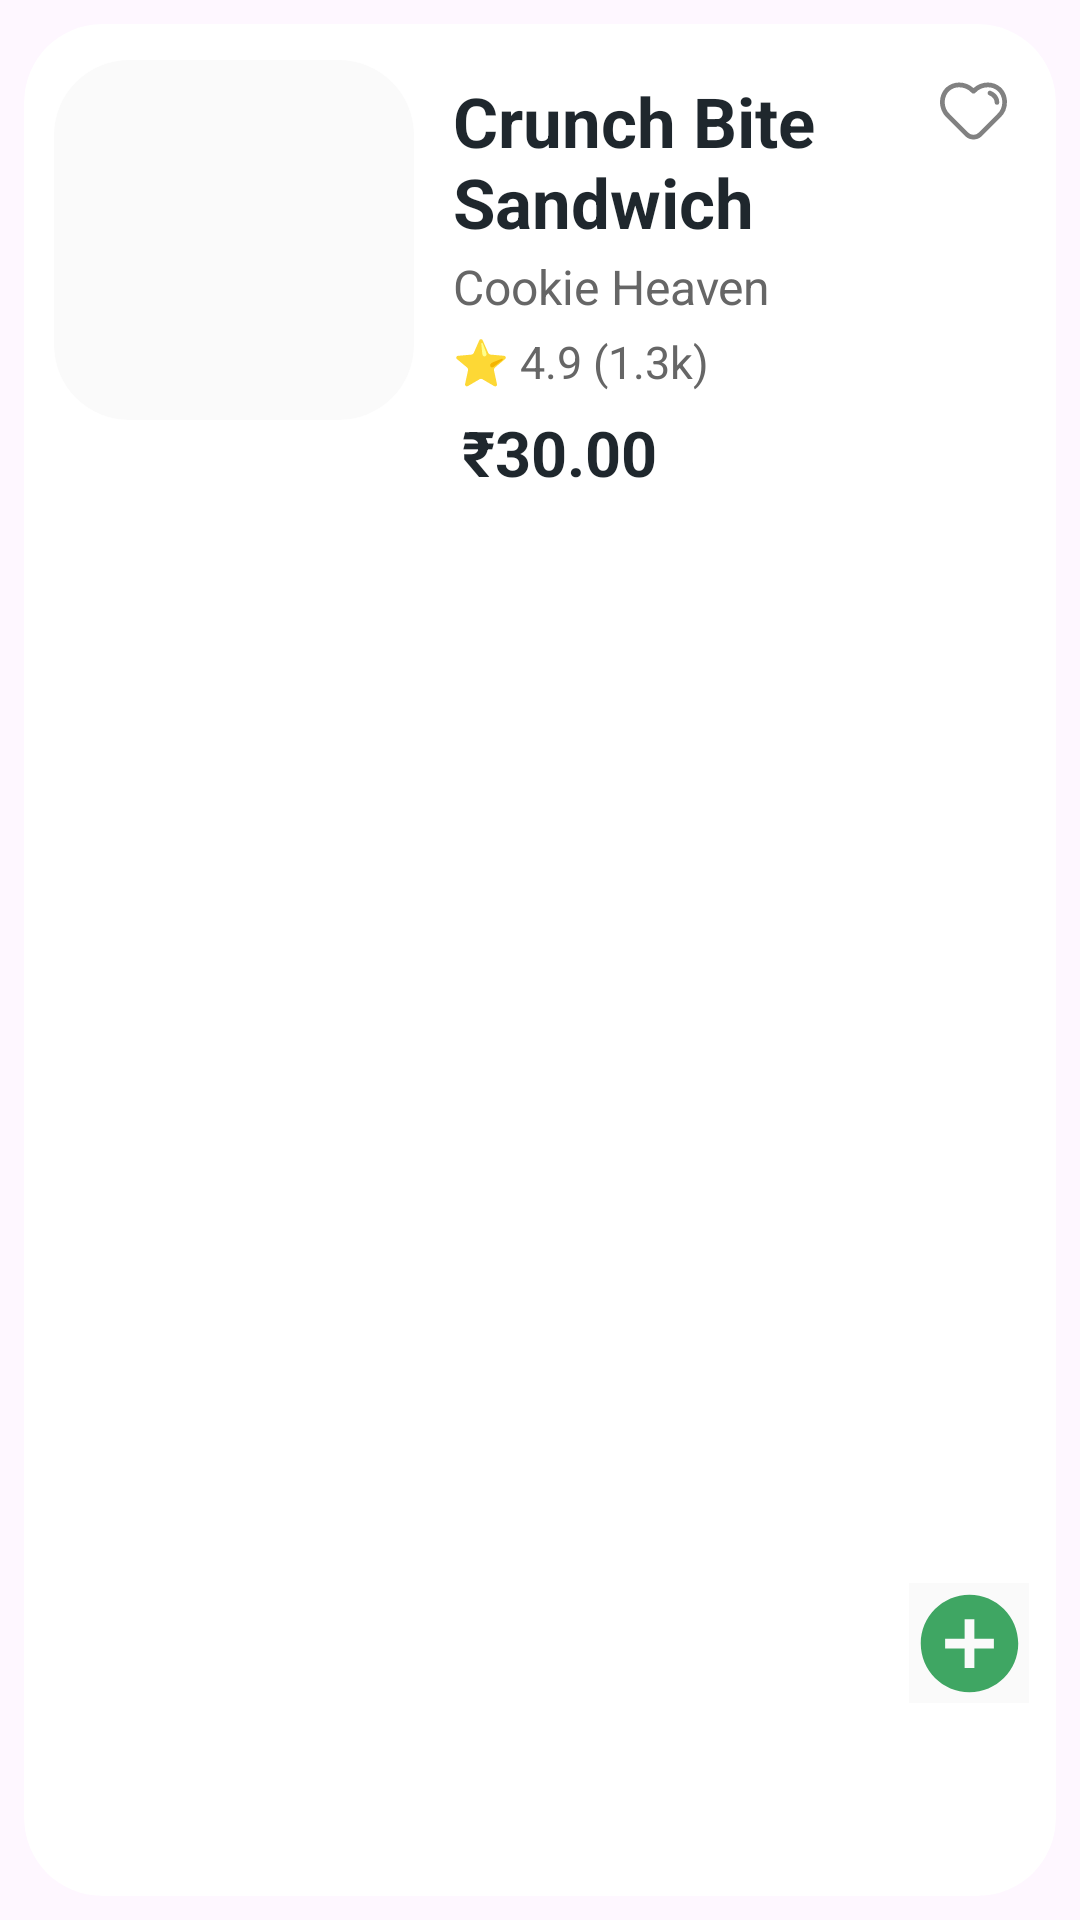

Screen size 1080x1920. Icon name, then its center in pixels as (x=x, y=y):
add circle: (x=969, y=1643)
favorite border: (x=973, y=111)
